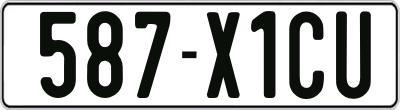1: (251, 11, 279, 98)
5: (37, 10, 76, 102)
7: (134, 10, 174, 101)
8: (85, 9, 126, 96)
C: (287, 12, 322, 101)
U: (334, 9, 373, 97)
X: (207, 9, 246, 95)
